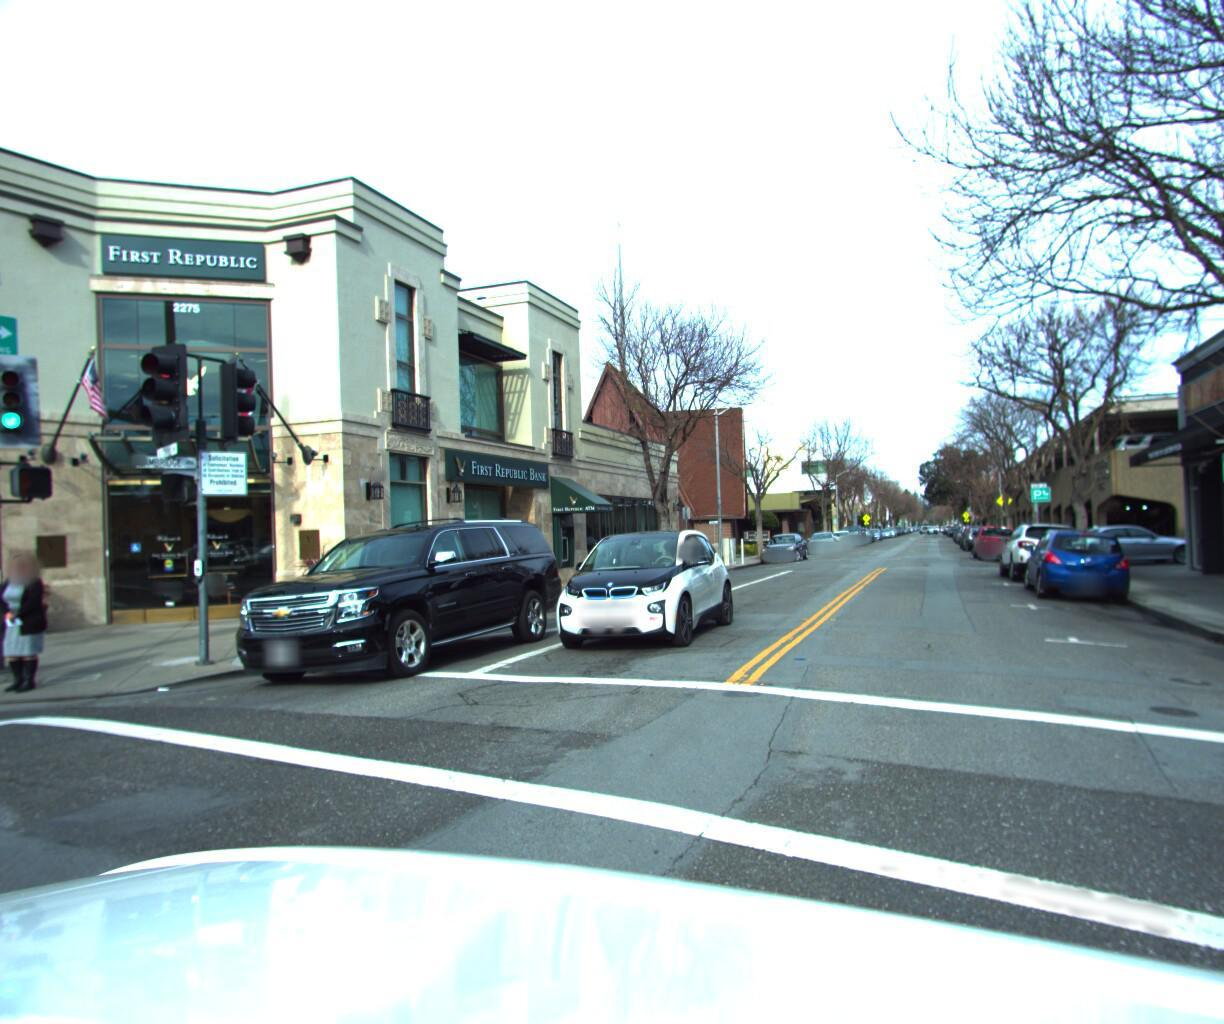car: (212, 511, 567, 699), (537, 522, 738, 648), (1016, 518, 1138, 600), (989, 510, 1099, 580), (1060, 510, 1210, 559), (966, 515, 1024, 556), (754, 525, 813, 557), (806, 525, 841, 548), (828, 521, 856, 542)
